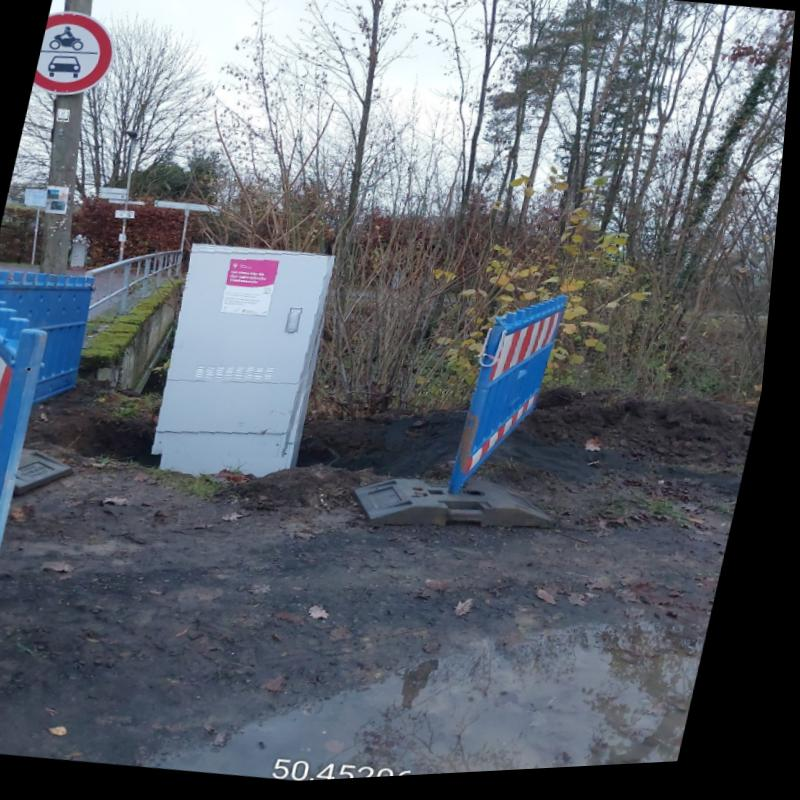NT-Gehause: (161, 246, 337, 463)
Steaker: (227, 264, 284, 320)
